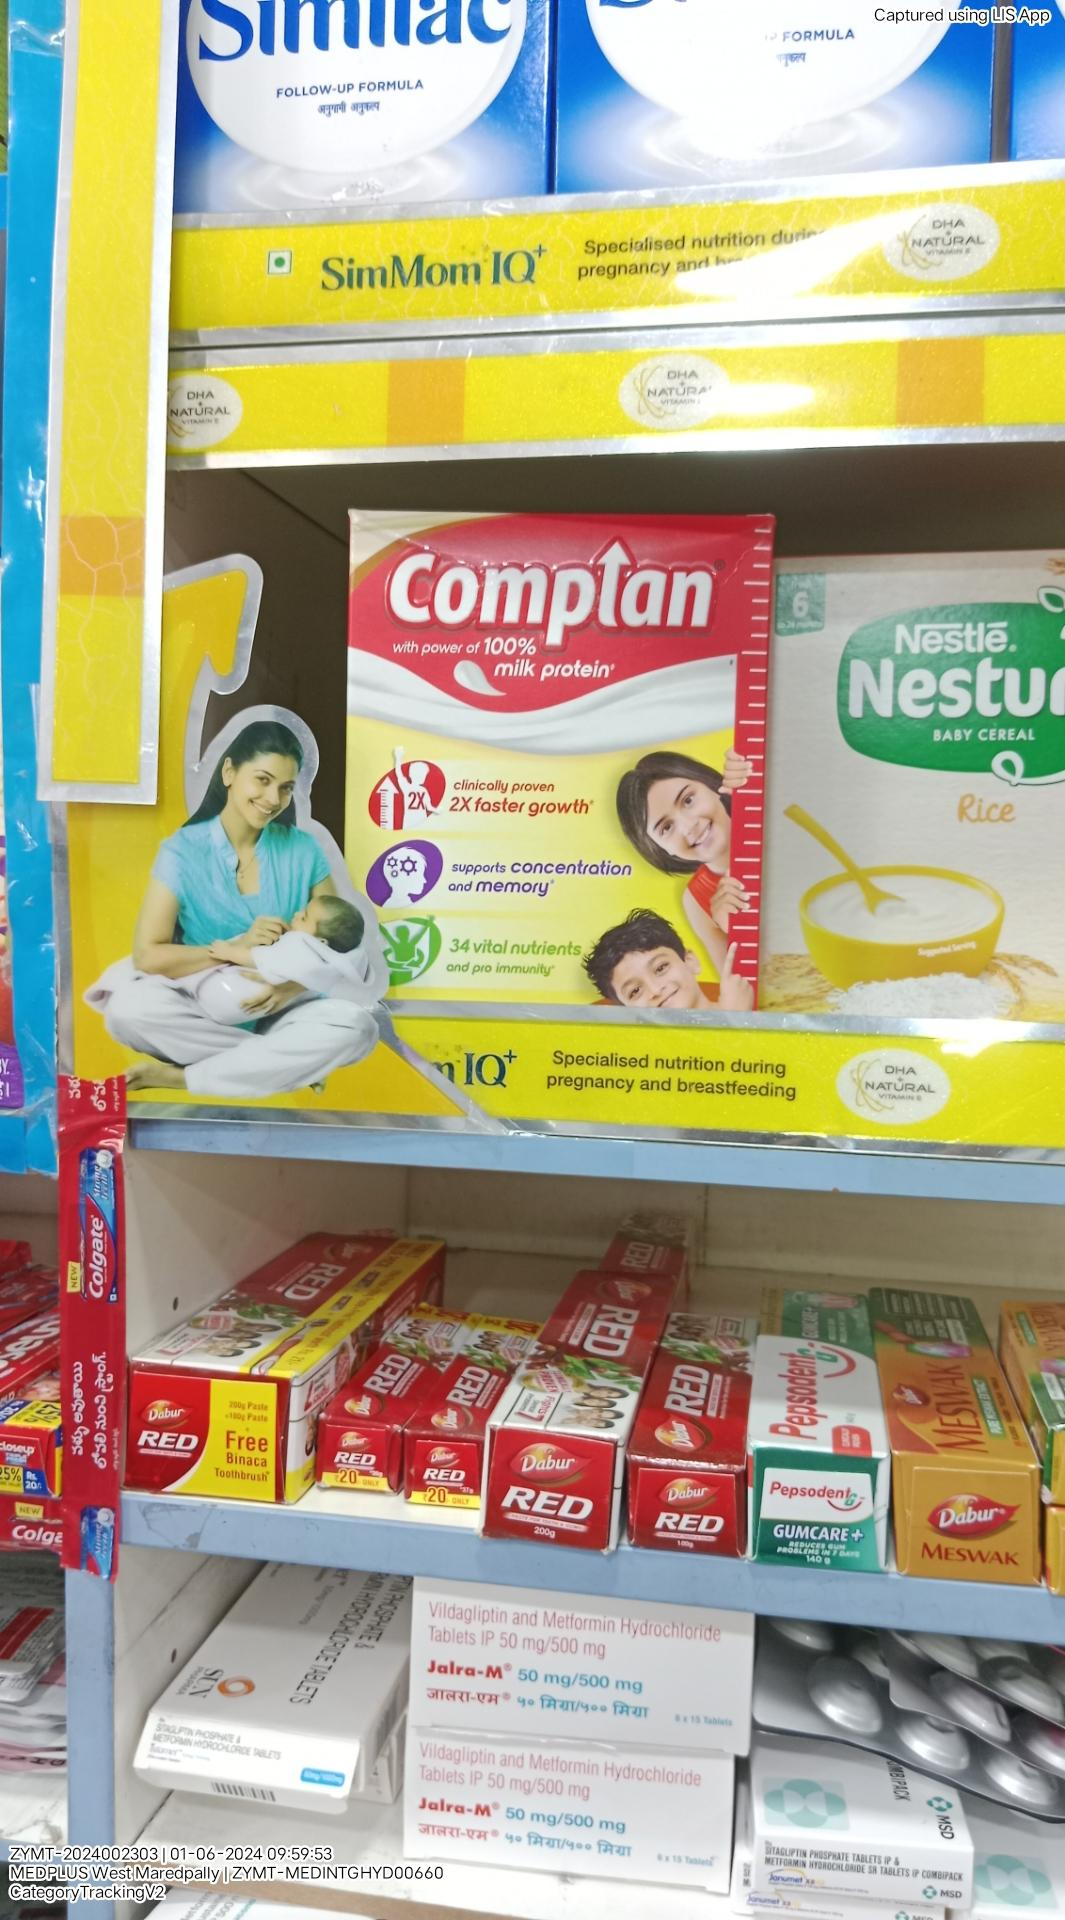COMPLAN_KESAR_BADAM_200_GMS_PACK: (353, 510, 753, 1011)
